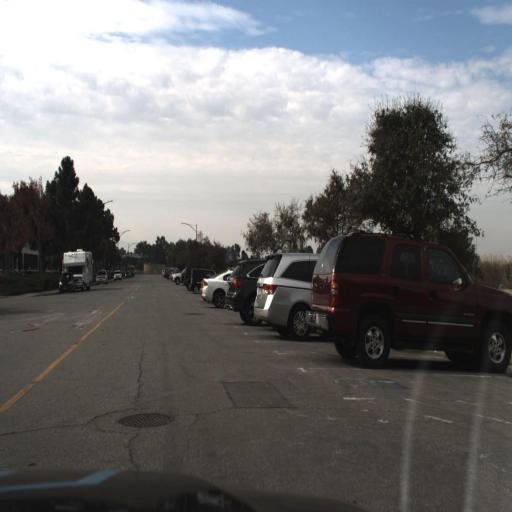car: (311, 225, 511, 389), (253, 248, 324, 343), (225, 252, 259, 324), (200, 265, 230, 307), (54, 268, 78, 297), (188, 264, 204, 296), (94, 266, 109, 287)
truck: (66, 248, 98, 291)
